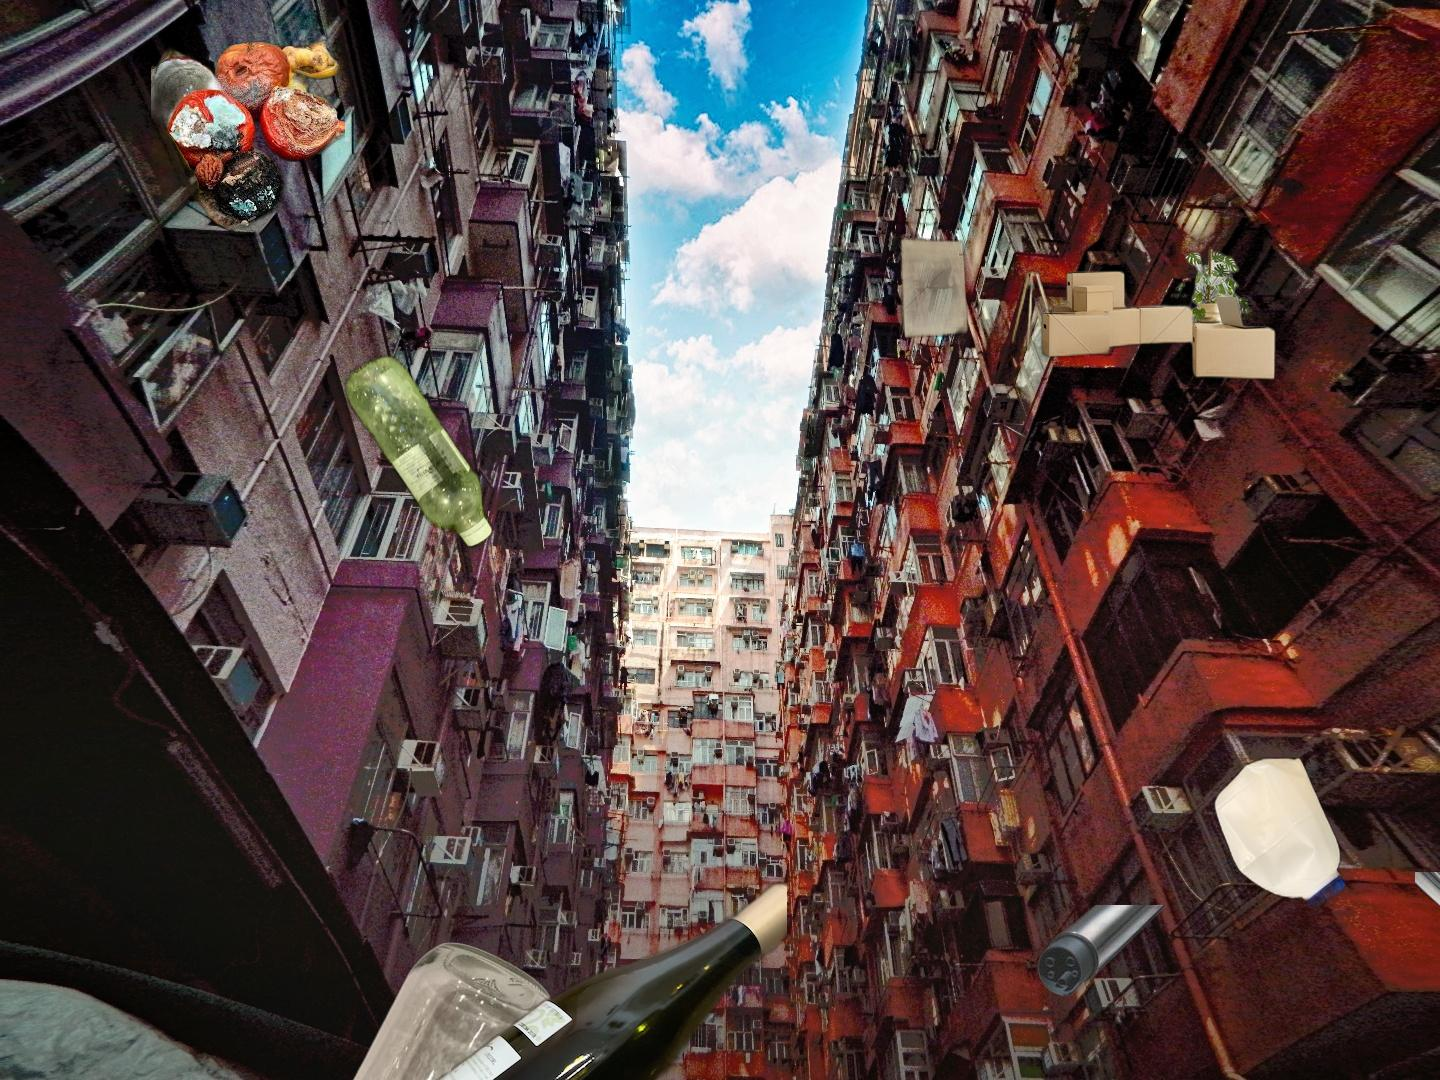biological: (151, 34, 345, 293)
glass: (353, 874, 787, 1080), (322, 939, 569, 1080)
paper: (939, 905, 1389, 1080)
plastic-bottles: (341, 351, 497, 554), (1210, 751, 1350, 914)
trashbox-cardboard: (882, 233, 1279, 386), (1415, 872, 1440, 1080)
